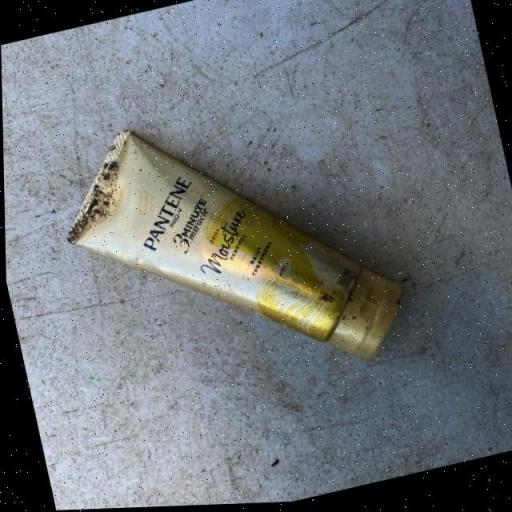plastic: (44, 76, 415, 424)
